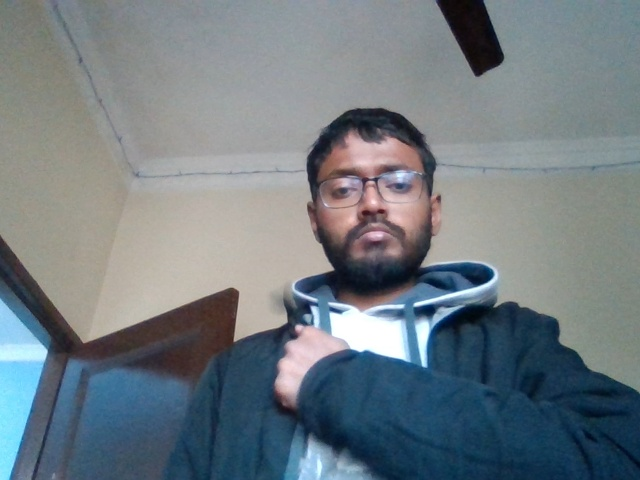sorry: (272, 320, 402, 422)
